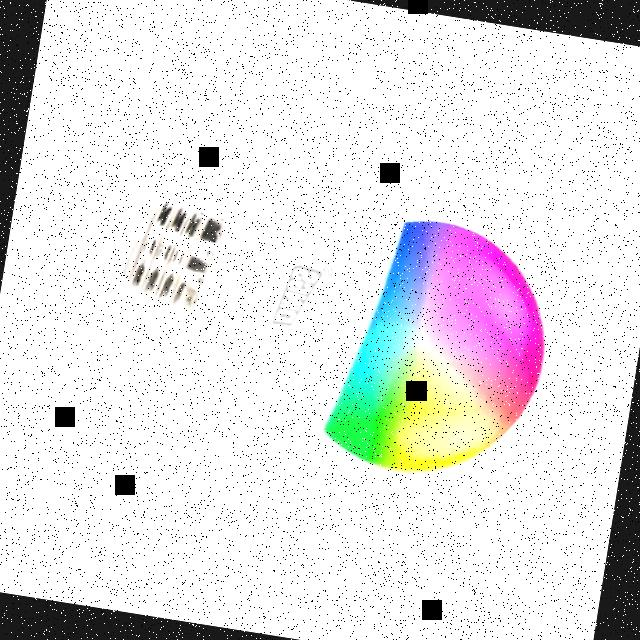light_bulb: (71, 138, 604, 516)
